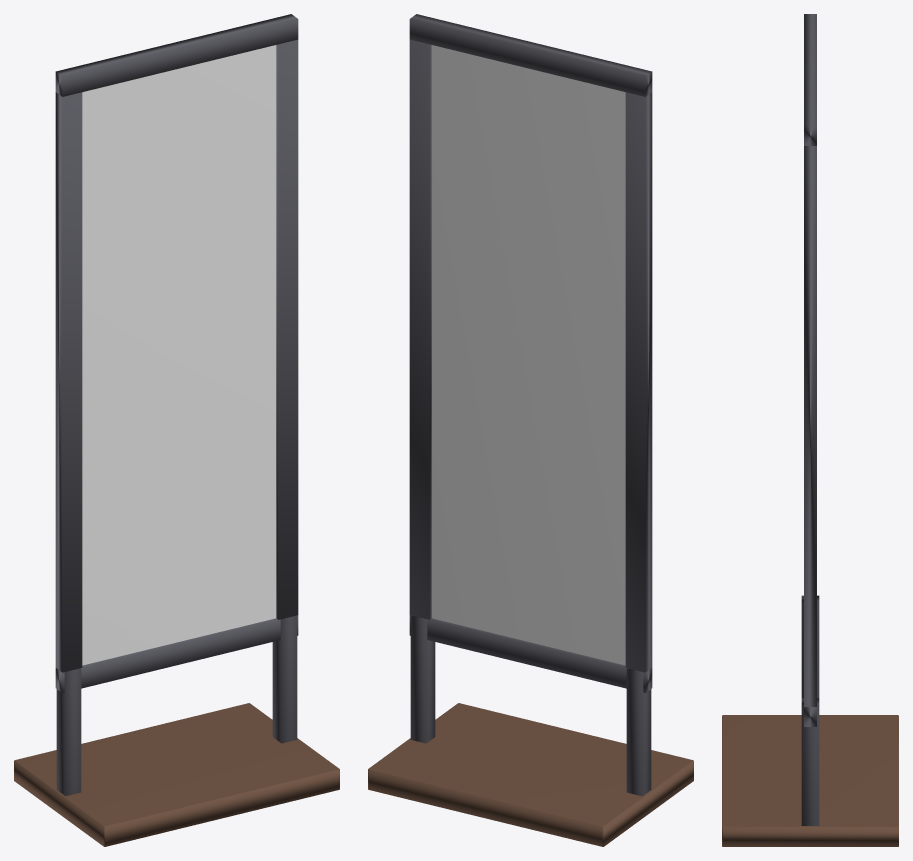
3 views of the same model, side by side, from view 1: azimuth 30°, elevation 25°; view 2: azimuth 150°, elevation 25°; view 3: azimuth 270°, elevation 25° (orthographic). The views are drawn at different scales.
Parts seen in each view (by area): view 1: Mirror_Surface, Frame_Complete, Base, Stand_Complete; view 2: Mirror_Surface, Frame_Complete, Base, Stand_Complete; view 3: Base, Frame_Complete, Stand_Complete.
Boxes of the visible parts, x1,y1,x2,y2 form: Mirror_Surface: [82, 45, 276, 665]; Frame_Complete: [55, 14, 298, 692]; Base: [14, 703, 339, 846]; Stand_Complete: [56, 615, 297, 796]; Mirror_Surface: [431, 45, 625, 665]; Frame_Complete: [409, 14, 652, 692]; Base: [368, 703, 693, 846]; Stand_Complete: [410, 615, 651, 796]; Base: [722, 715, 898, 846]; Frame_Complete: [804, 14, 816, 726]; Stand_Complete: [801, 595, 819, 825].
Bounding box in the file's own units: 0.6 × 1.8 × 0.4.
